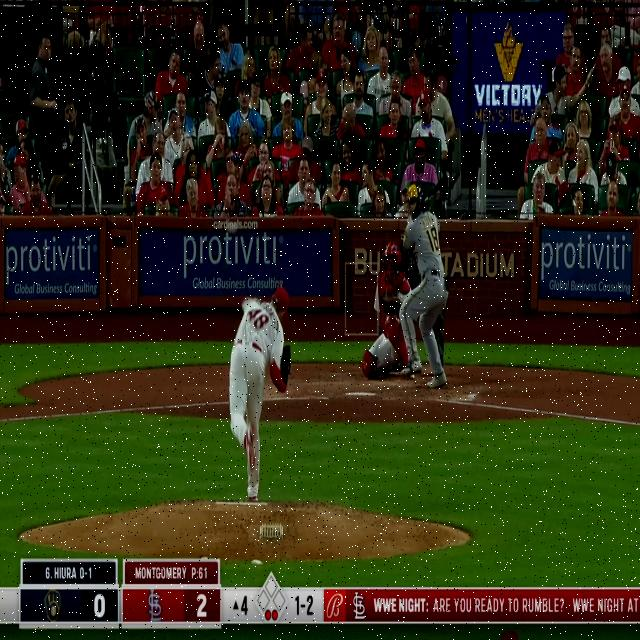baseball: (226, 216, 238, 237)
